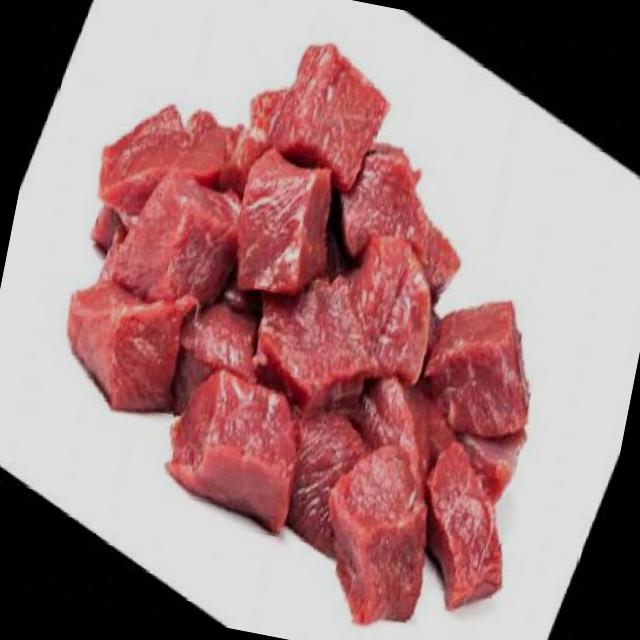beef: (8, 2, 599, 640)
